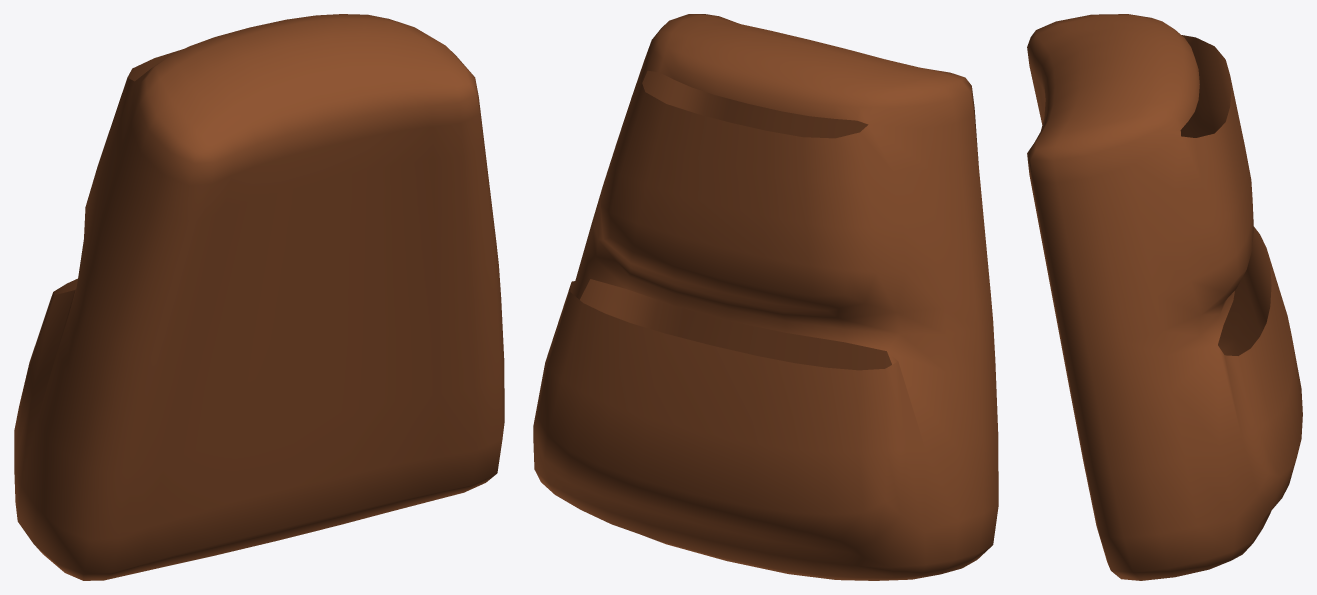
Rendered from Bag.fbx.
The picture shows the model from 3 angles, left to right: view 1: azimuth 30°, elevation 25°; view 2: azimuth 150°, elevation 25°; view 3: azimuth 270°, elevation 25°; orthographic projection. The views are drawn at different scales.
Visible parts, largest first — view 1: Cube.013; view 2: Cube.013; view 3: Cube.013.
Part boxes in pixels (box(x1,y1,x2,y2)): Cube.013: box(14, 14, 504, 580); Cube.013: box(533, 14, 998, 580); Cube.013: box(1027, 14, 1302, 580).
Bounding box in the file's own units: 196 × 212 × 116.
